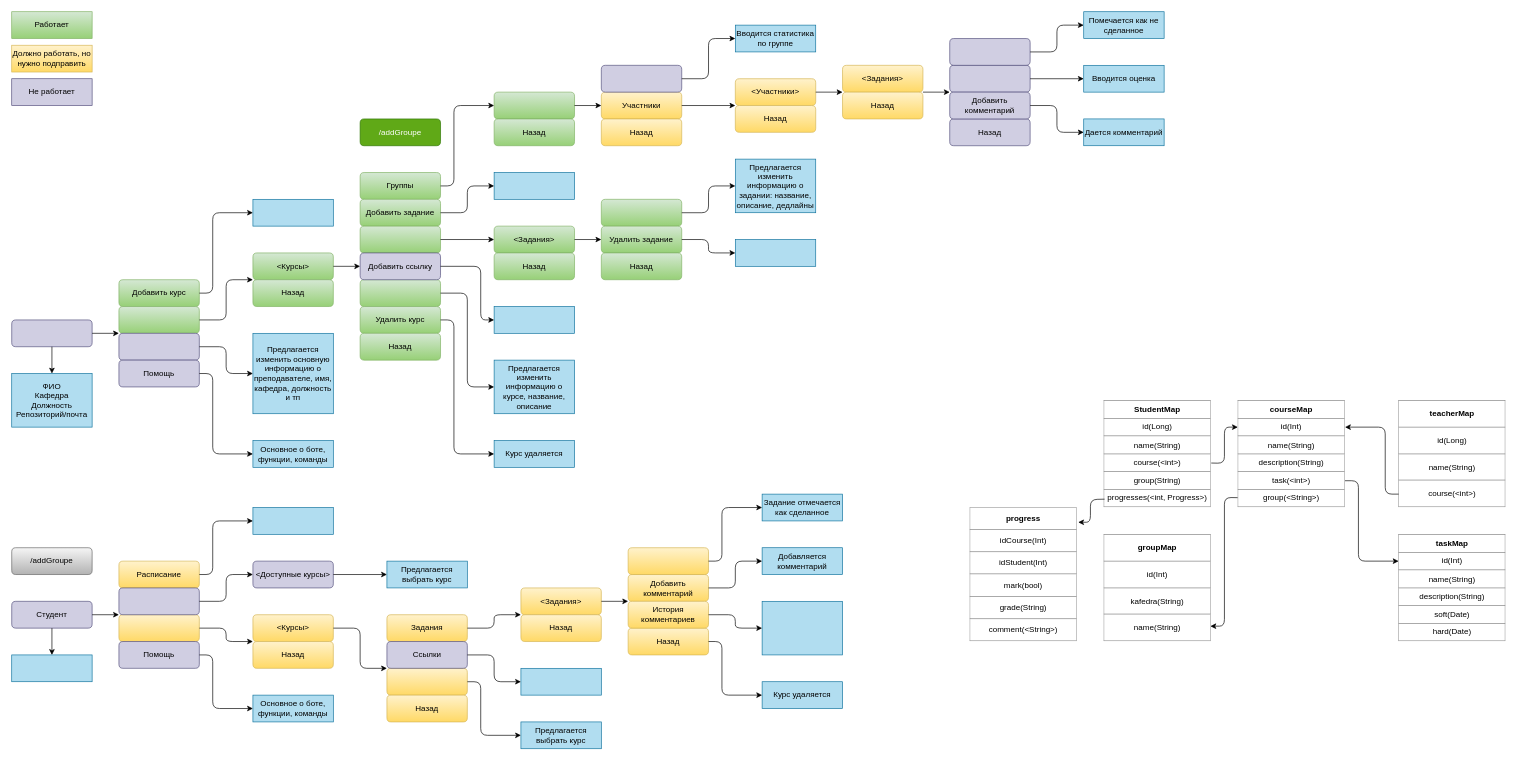
The diagram is 1518 pixels wide and 760 high, and some of its shapes have lost their labels. The centre of each missing label's shape, as x and y in pixels:
<Группы>: (x=534, y=105)
Вводится название курса и описание: (x=292, y=212)
Вводится, название, описание, дедлайны: (x=534, y=185)
Выводится вся история комментариев по заданию: (x=802, y=628)
Выводится расписание: (x=292, y=520)
Выводятся ссылки: (x=560, y=681)
Добавляется ссылка: (x=534, y=319)
Задание удаляется: (x=775, y=252)
Изменить задание: (x=641, y=212)
Изменить курс: (x=400, y=293)
Изменить оценку: (x=989, y=78)
Изменить профиль: (x=158, y=346)
Курсы: (x=158, y=628)
Отметить как сделанное: (x=668, y=561)
Отписаться: (x=426, y=681)
Подписаться на курс: (x=158, y=601)
Посмотреть задания: (x=400, y=239)
Посмотреть курсы: (x=158, y=319)
Преподаватель: (x=51, y=333)
Снять отметку: (x=989, y=51)
Статистика: (x=641, y=78)
ФИО Группа Репозиторий/почта: (x=51, y=668)
